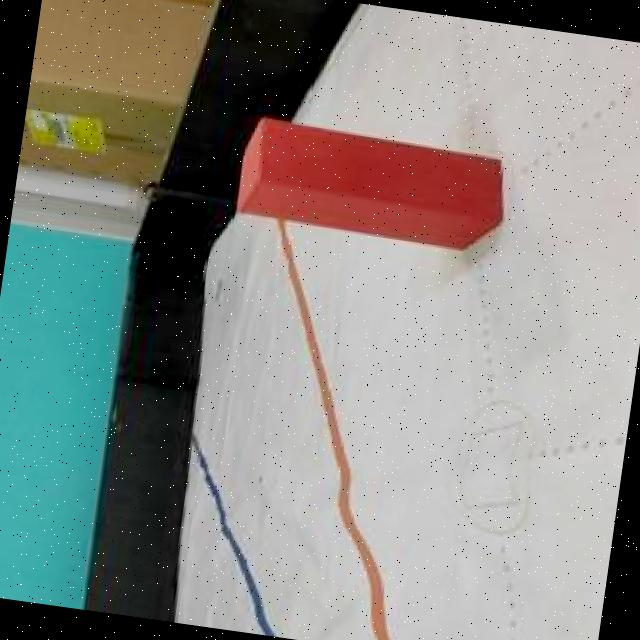redbox: (232, 111, 511, 256)
